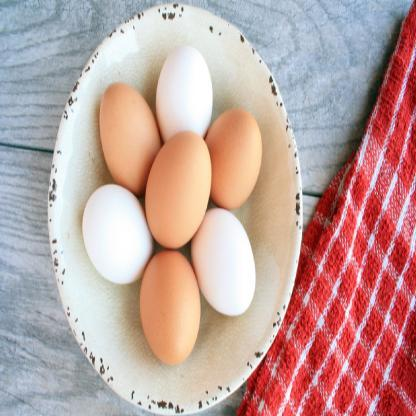egg: (144, 129, 212, 252), (80, 182, 156, 288), (138, 248, 202, 366), (98, 82, 163, 198), (190, 207, 258, 316), (203, 105, 266, 208), (155, 41, 214, 144)
